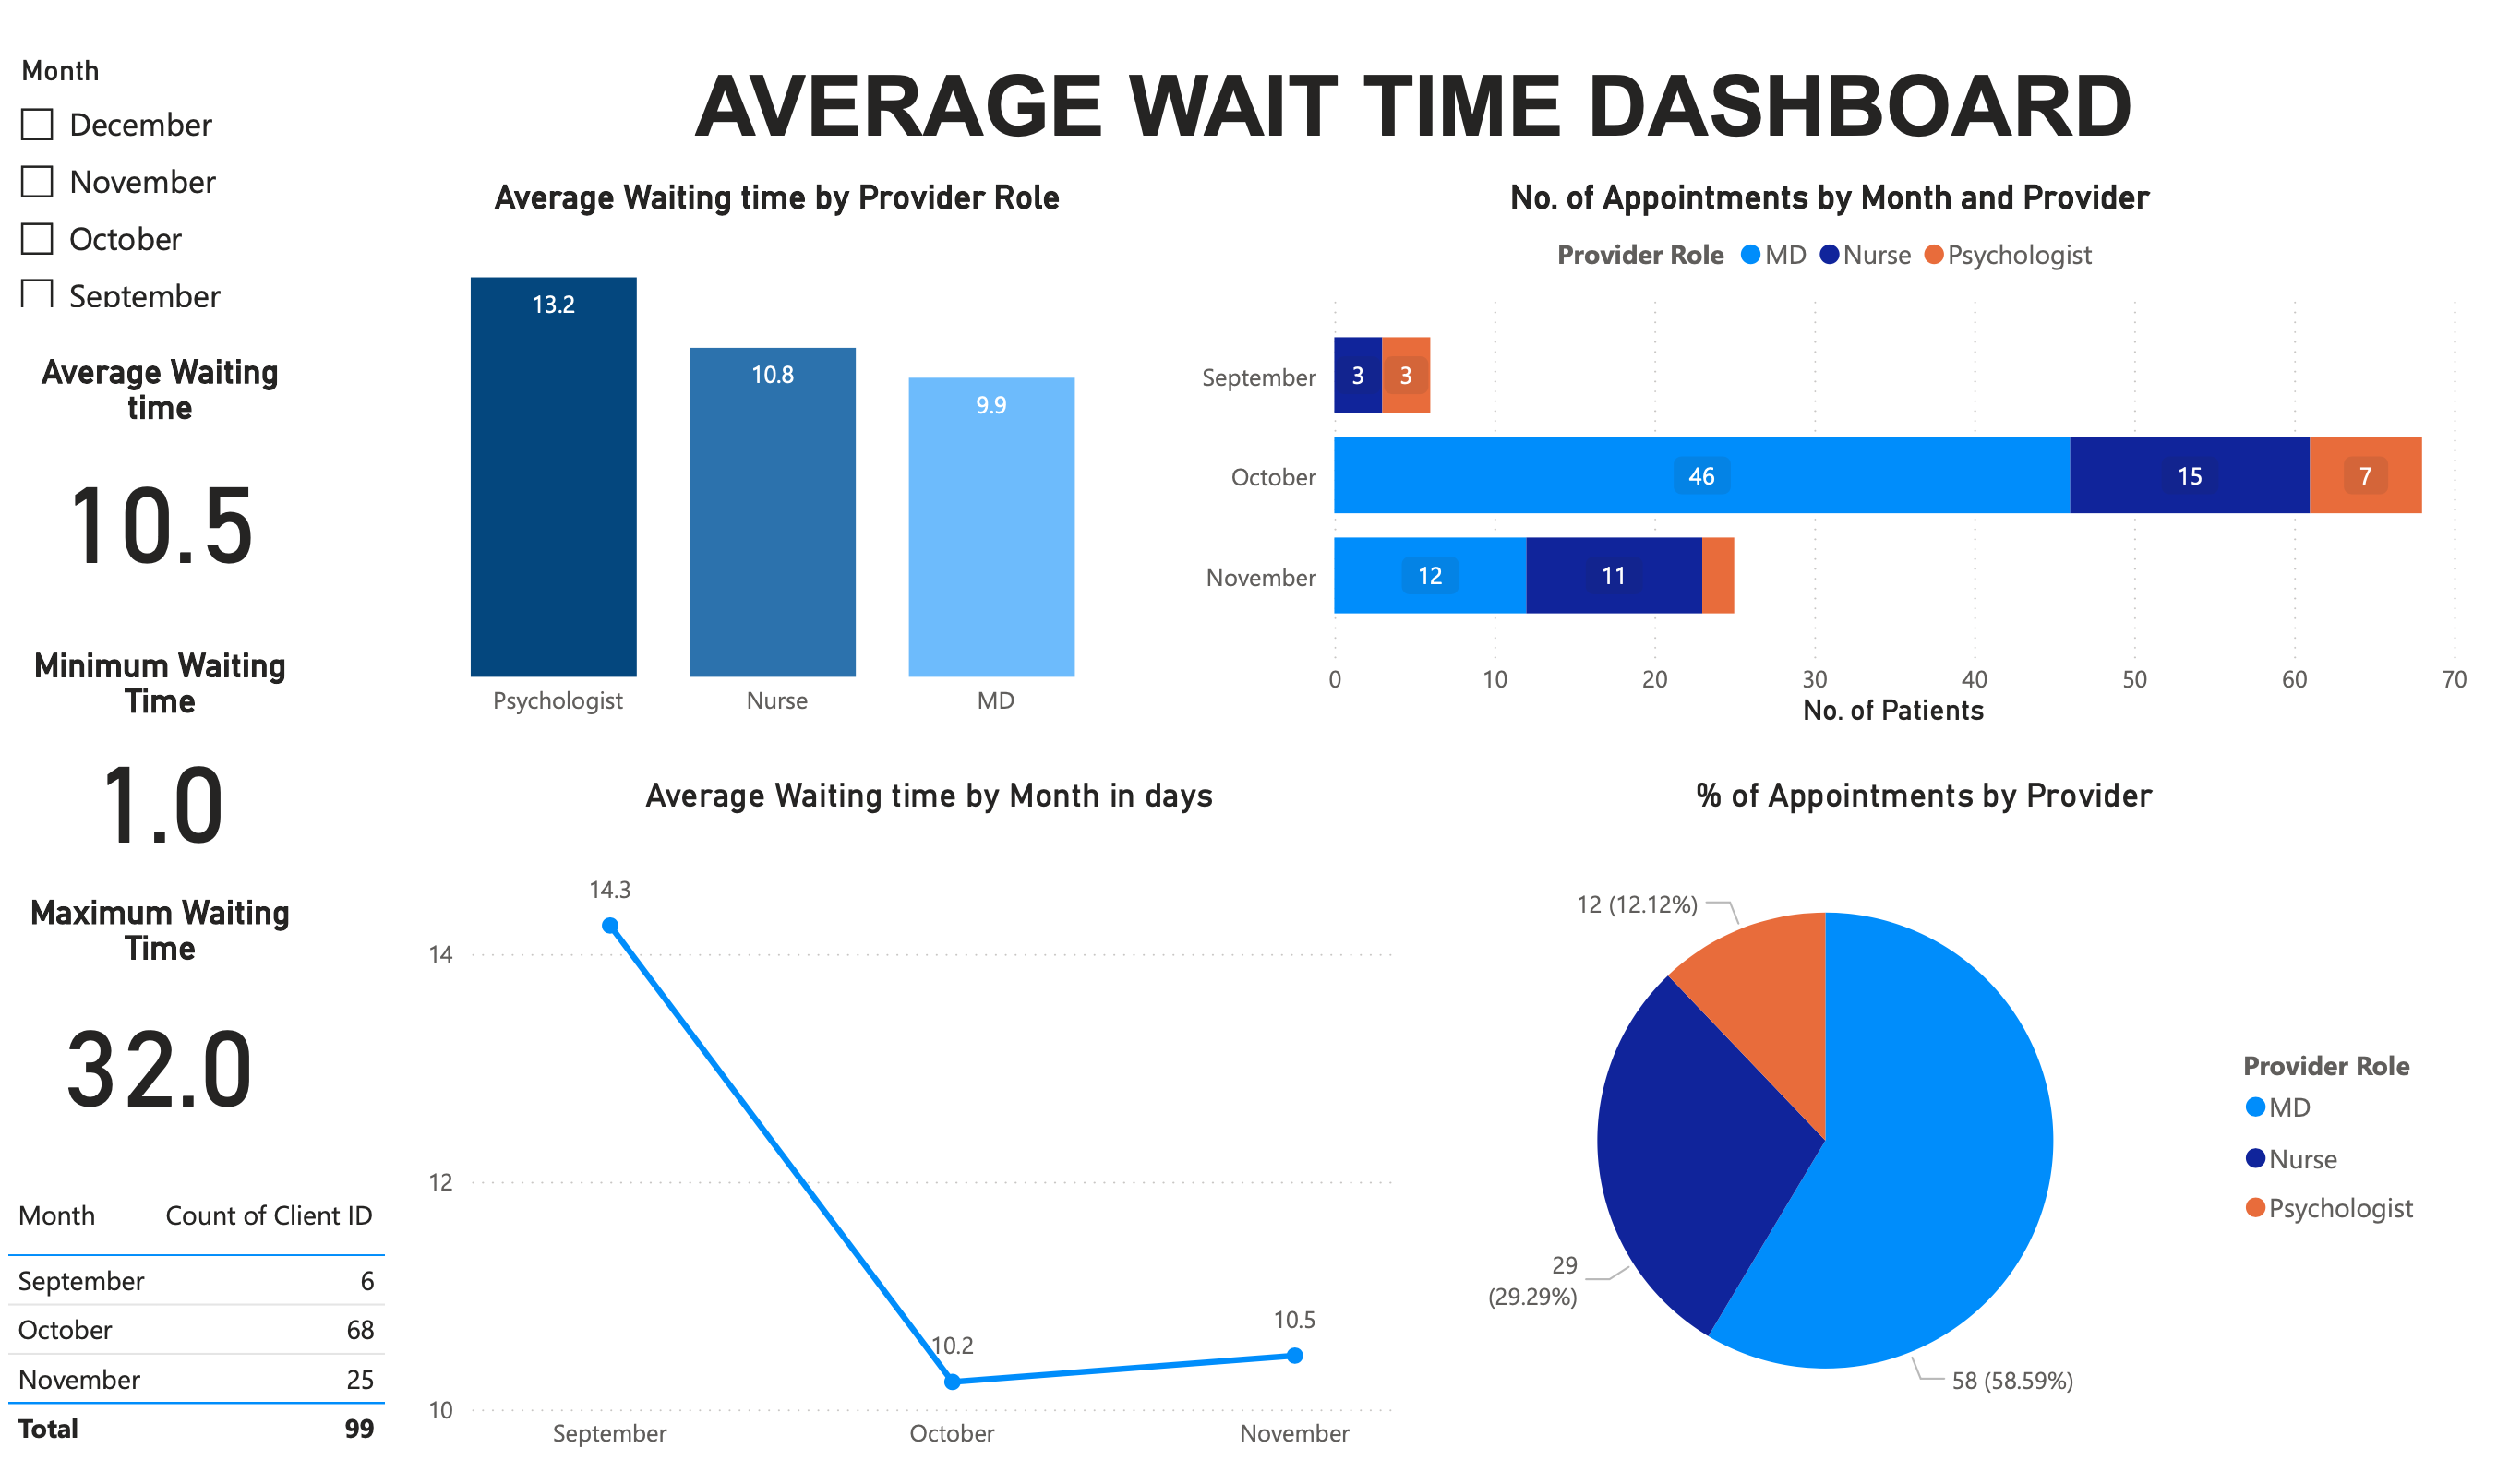

The dashboard page shown, as its layout file describes it:
{"tool":"powerbi","page":{"name":"Page 1","canvas":[1280,720],"ordinal":0},"visuals":[{"type":"clusteredColumnChart","title":"Average Waiting time by Provider Role","fields":{"Category":["final_cleaned_appointment_data 1.Provider Role"],"Y":["Avg(final_cleaned_appointment_data 1.Total_Waiting_Days)"]},"box":[191.4,68,409.8,280.1],"z":0},{"type":"slicer","fields":{"Values":["final_cleaned_appointment_data 1.Appointment date.Variation.Date Hierarchy.Month"]},"box":[0,0,166.1,136.1],"z":1},{"type":"barChart","title":"No. of Appointments by Month and Provider","fields":{"Category":["final_cleaned_appointment_data 1.Appointment date.Variation.Date Hierarchy.Month"],"Y":["Count(final_cleaned_appointment_data 1.Client ID)"],"Series":["final_cleaned_appointment_data 1.Provider Role"]},"box":[601.2,68,656.6,280.1],"z":2},{"type":"lineChart","title":"Average Waiting time by Month in days ","fields":{"Category":["final_cleaned_appointment_data 1.Appointment date.Variation.Date Hierarchy.Month"],"Y":["Avg(final_cleaned_appointment_data 1.Total_Waiting_Days)"]},"box":[213.6,371.8,519,348.1],"z":3},{"type":"pieChart","title":"% of Appointments by Provider ","fields":{"Y":["Count(final_cleaned_appointment_data 1.Client ID)"],"Category":["final_cleaned_appointment_data 1.Provider Role"]},"box":[710.4,371.8,534.8,348.1],"z":4},{"type":"tableEx","fields":{"Values":["final_cleaned_appointment_data 1.Appointment date.Variation.Date Hierarchy.Month","Count(final_cleaned_appointment_data 1.Client ID)"]},"box":[0,574.3,210.4,145.6],"z":5},{"type":"card","title":"Minimum Waiting Time","fields":{"Values":["Min(final_cleaned_appointment_data 1.Total_Waiting_Days)"]},"box":[0,305.4,166.1,110.8],"z":6},{"type":"card","title":"Maximum Waiting Time","fields":{"Values":["Max(final_cleaned_appointment_data 1.Total_Waiting_Days)"]},"box":[0,430.4,166.1,128.2],"z":7},{"type":"card","title":"Average Waiting time","fields":{"Values":["Avg(final_cleaned_appointment_data 1.Total_Waiting_Days)"]},"box":[0,156.6,166.1,125],"z":8},{"type":"textbox","box":[166.1,0,1113.9,57],"z":9}]}

Visuals, with their boxes on the page's 1280x720 design canvas (x1, y1, x2, y2). These are canvas units, not pixel positions in the 2509x1484 screenshot, which may show the page scaled, cropped or inside an application window:
"Average Waiting time by Provider Role" clusteredColumnChart: <box>191,68,601,348</box>
slicer - final_cleaned_appointment_data 1.Appointment date.Variation.Date Hierarchy.Month: <box>0,0,166,136</box>
"No. of Appointments by Month and Provider" barChart: <box>601,68,1258,348</box>
"Average Waiting time by Month in days " lineChart: <box>214,372,733,720</box>
"% of Appointments by Provider " pieChart: <box>710,372,1245,720</box>
tableEx - final_cleaned_appointment_data 1.Appointment date.Variation.Date Hierarchy.Month x Count(final_cleaned_appointment_data 1.Client ID): <box>0,574,210,720</box>
"Minimum Waiting Time" card: <box>0,305,166,416</box>
"Maximum Waiting Time" card: <box>0,430,166,559</box>
"Average Waiting time" card: <box>0,157,166,282</box>
textbox: <box>166,0,1280,57</box>
